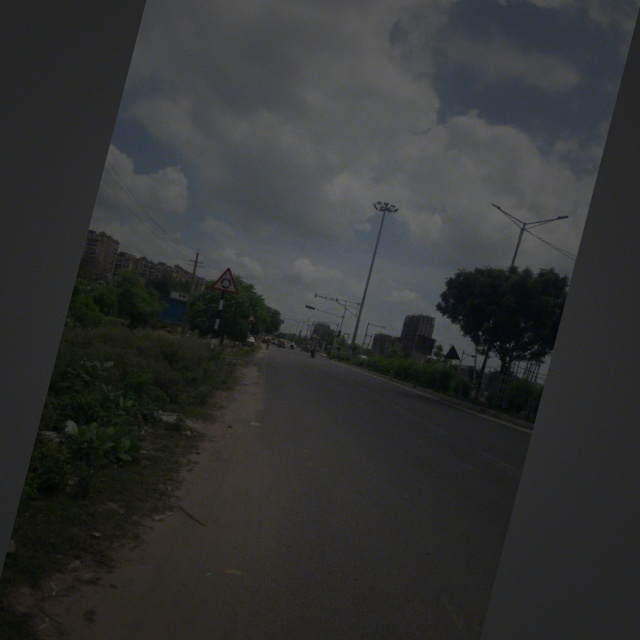Round_About: (206, 261, 248, 300)
